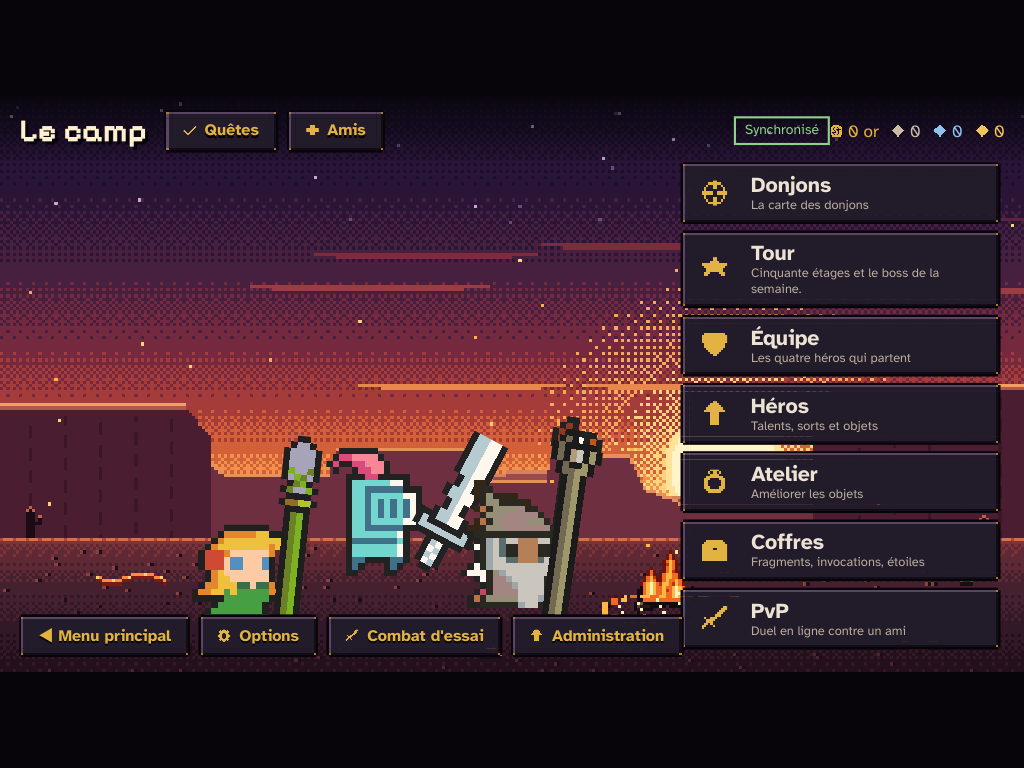
Test: entrée « Administration » du camp › mène un administrateur à la liste des comptes, puis au détail d’un compte
Click the button "Administration" at (597, 636), box [511,614,683,657]
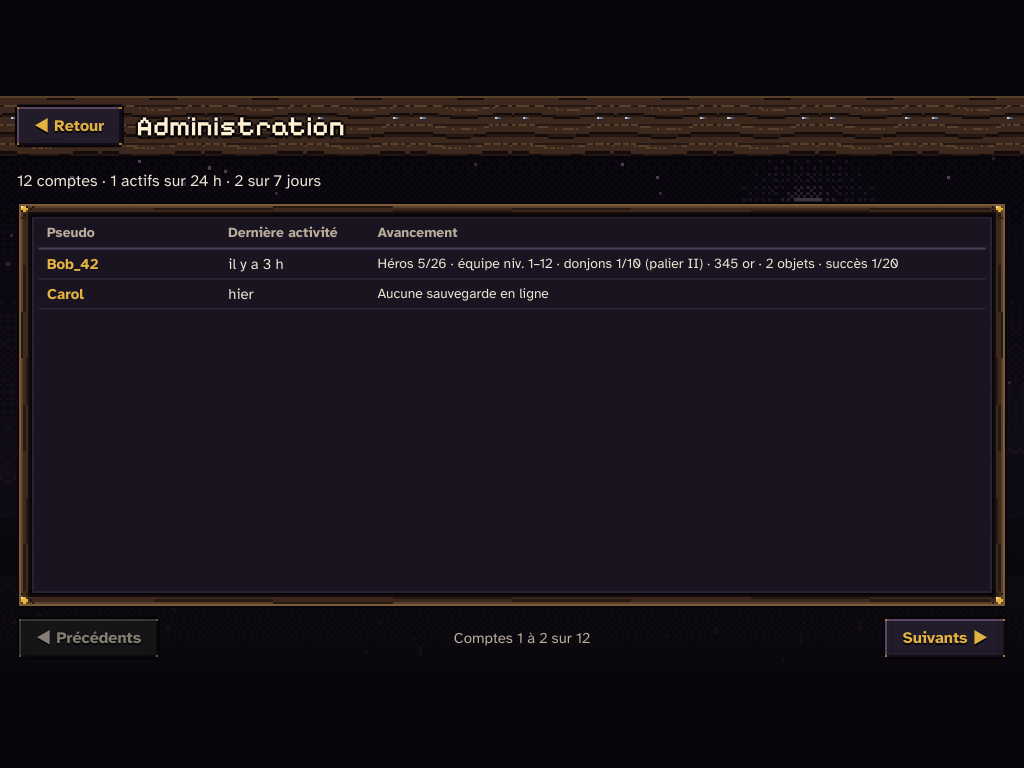
Check: the number of rows is 3, box [38,218,986,248]; [38,248,986,279]; [38,279,986,309]
Check: the text "il y a 3 h" is shown, box [220,248,369,279]
Check: the text "Héros 5/26 · équipe niv. 1–12 · donjons 1/10 (palier II) · 345 or · 2 objets · succès 1/20" is shown, box [378,255,899,272]
Page suivante, puis retour.
Click the button "Suivants ▶" at (945, 638), box [884,616,1007,659]
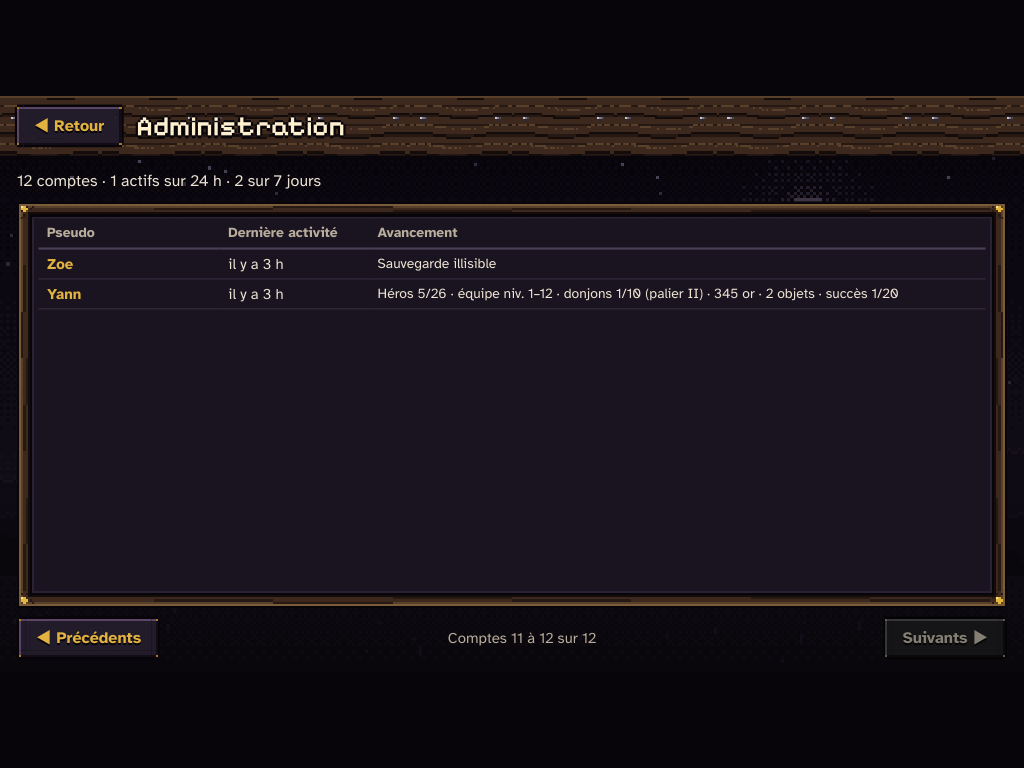
Check: the button "Zoe" is shown, box [47,253,73,275]
Check: the text "Sauvegarde illisible" is shown, box [369,248,986,279]
Check: the button "Suivants ▶" is disabled, box [884,616,1007,659]
Click the button "◀ Précédents" at (89, 638), box [17,616,160,659]
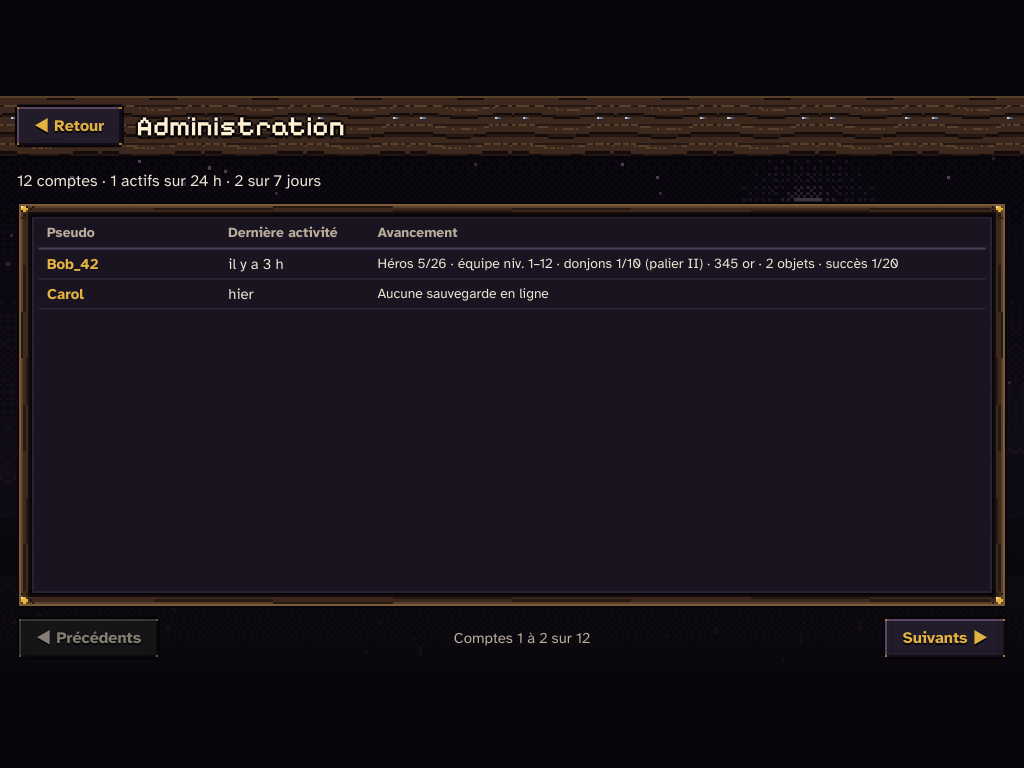
Détail d'un compte : héros et donjons nommés, Échap revient à la liste.
Click the button "Bob_42" at (73, 264), box [47,253,98,275]
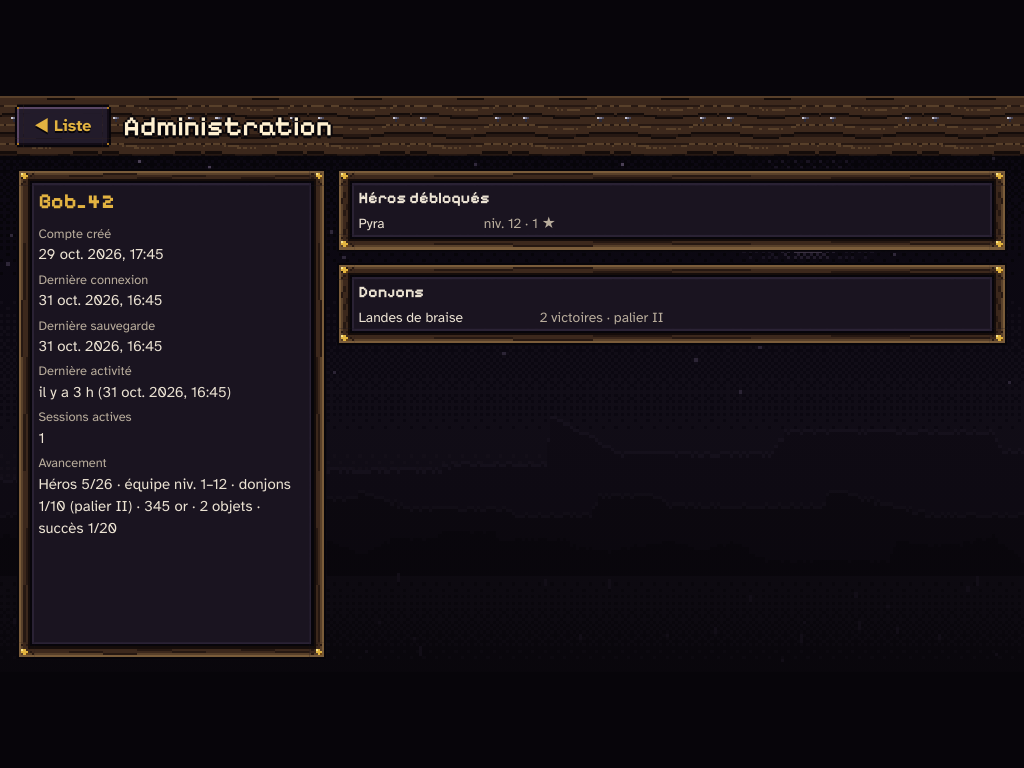
Check: the heading "Bob_42" is shown, box [38,189,115,214]
Check: the text "Pyra" is shown, box [358,214,384,235]
Check: the text "Landes de braise" is shown, box [358,308,463,328]
Press Escape
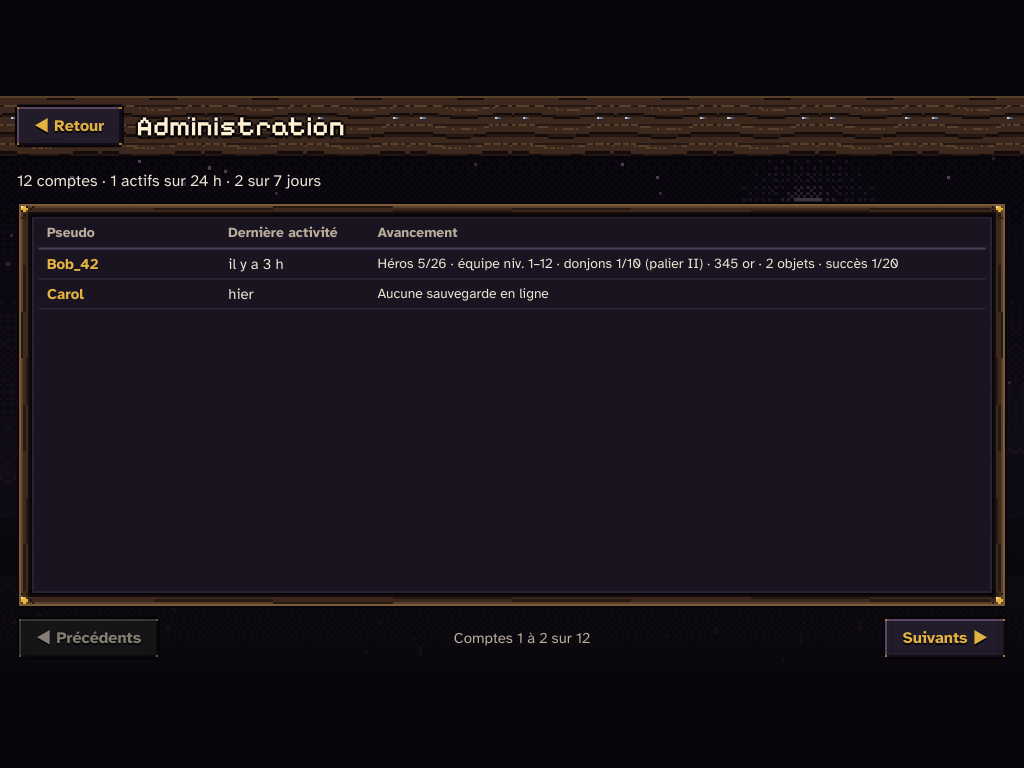
Check: the table is shown, box [38,218,986,309]
Press Escape
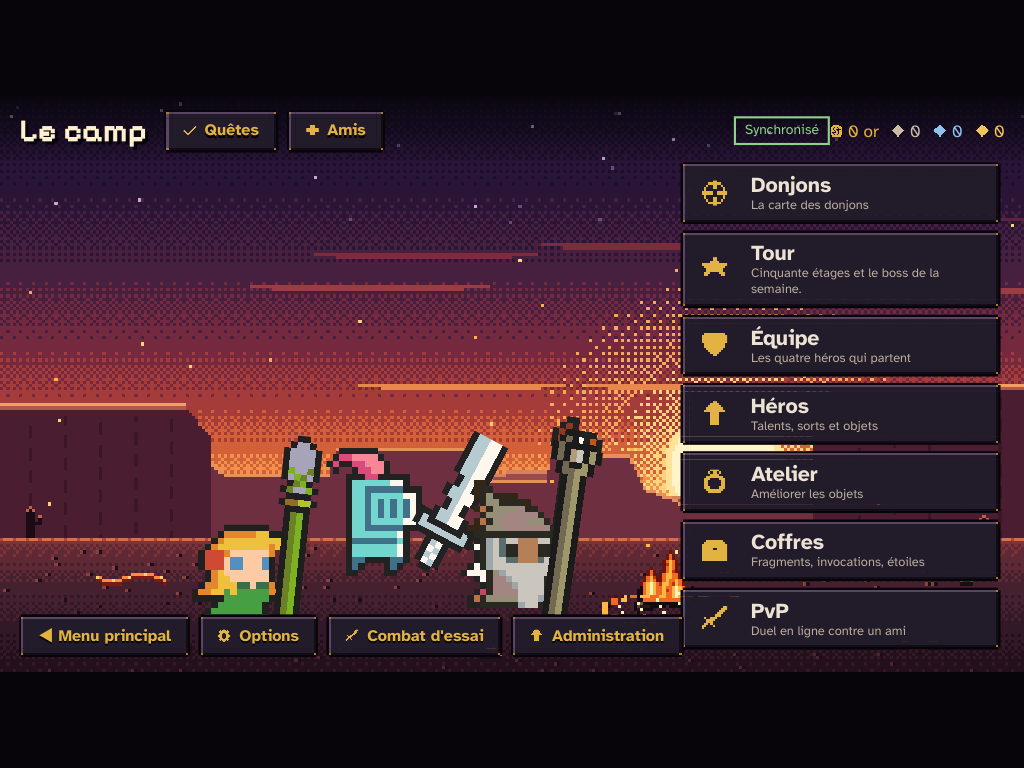
Check: the heading "Le camp" is shown, box [19,107,147,155]
